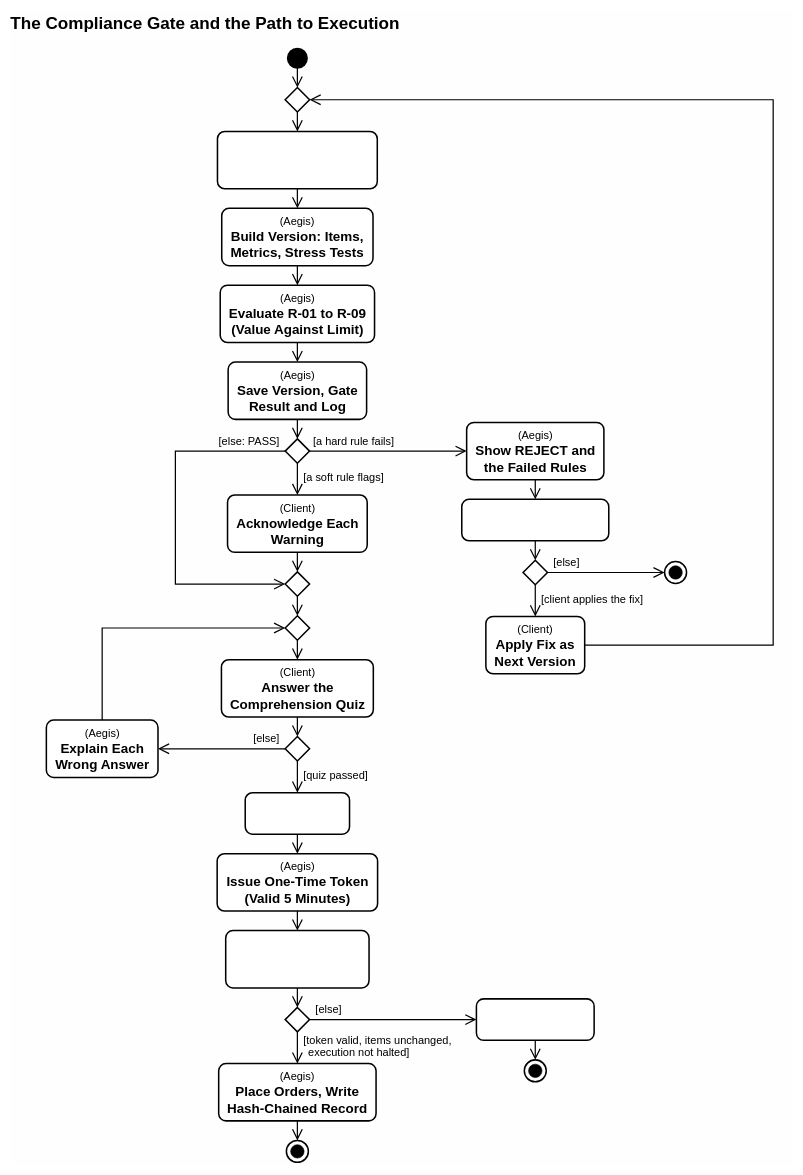
The diagram is 803 pixels wide and 1175 high, and some of its shapes have lost their labels. The centre of each missing label's shape, as x and y in pixels:
(Aegis) Check Token, Items and Switches: point (297, 959)
(Aegis) Compute How to Fix: point (535, 519)
(Aegis) Refuse and Log: point (535, 1019)
(Client or Advisor Agent (T2)) Create or Revise Proposal: point (297, 159)
(Client) Click Confirm: point (297, 813)
